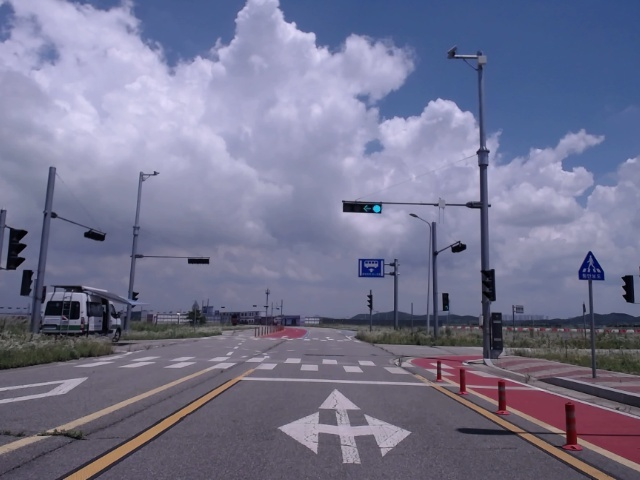all_green_4: (343, 202, 382, 214)
